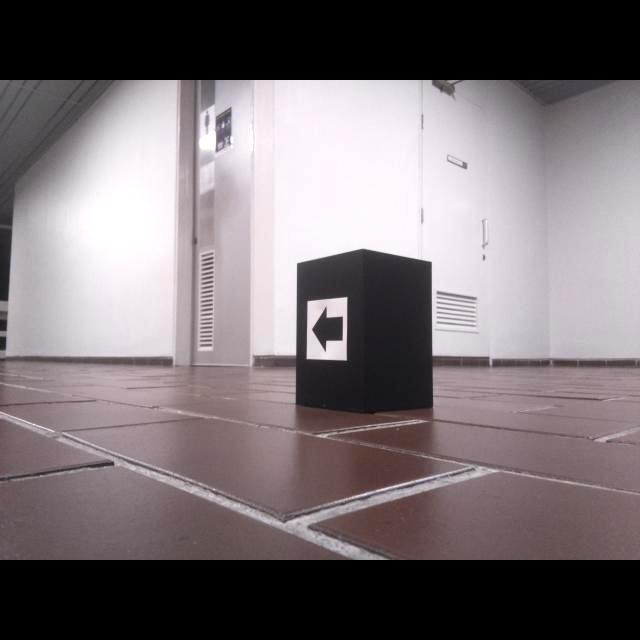LEFT: (312, 304, 343, 353)
